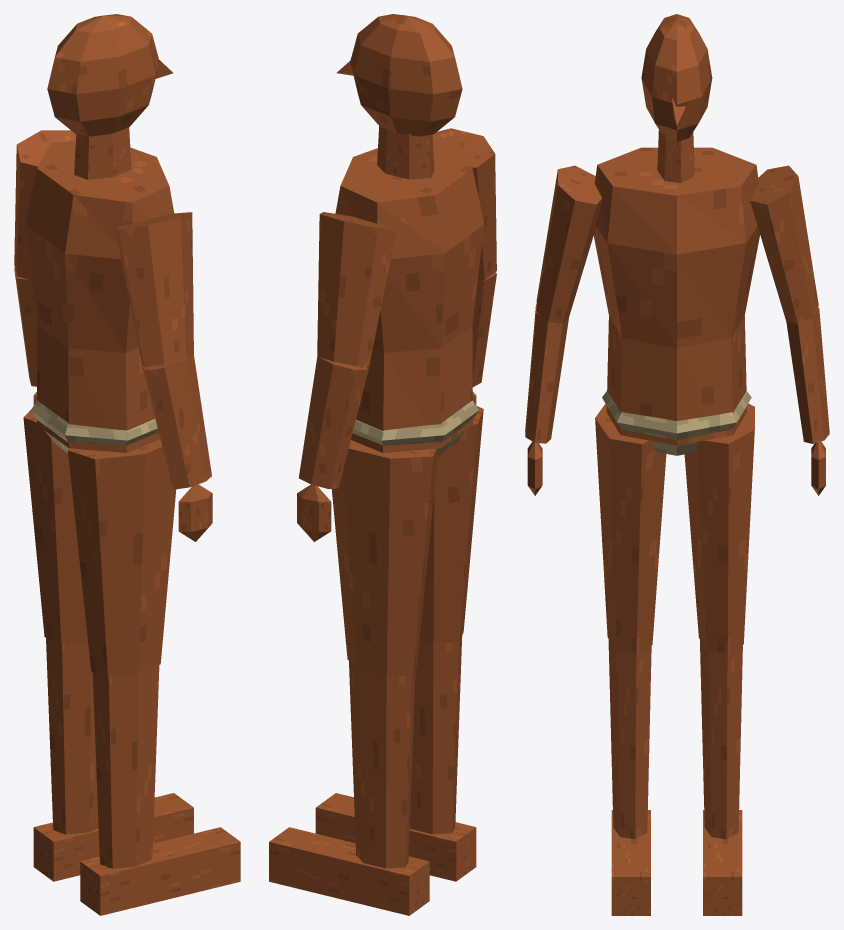
File: cuerpo_gigante.glb
3 renders of one model, left to right at view 1: azimuth 30°, elevation 25°; view 2: azimuth 150°, elevation 25°; view 3: azimuth 270°, elevation 25°, orthographic. The views are drawn at different scales.
Visible parts, largest first — view 1: torso, muslo_der, pierna_der, cabeza, brazo_der, muslo_izq, pierna_izq, pie_der, antebrazo_der, pie_izq, brazo_izq, cuello (+3 smaller); view 2: torso, muslo_izq, pierna_izq, cabeza, brazo_izq, muslo_der, pierna_der, pie_izq, antebrazo_izq, pie_der, brazo_der, cuello (+3 smaller); view 3: torso, muslo_der, muslo_izq, pierna_der, pierna_izq, cabeza, brazo_izq, brazo_der, antebrazo_izq, antebrazo_der, pie_der, pie_izq (+4 smaller).
Boxes of the visible parts, x1=… form: torso: x1=25, y1=140, x2=174, y2=452; muslo_der: x1=68, y1=439, x2=176, y2=676; pierna_der: x1=92, y1=665, x2=159, y2=868; cabeza: x1=47, y1=14, x2=173, y2=136; brazo_der: x1=115, y1=212, x2=193, y2=367; muslo_izq: x1=23, y1=410, x2=87, y2=643; pierna_izq: x1=46, y1=638, x2=98, y2=834; pie_der: x1=80, y1=827, x2=240, y2=915; antebrazo_der: x1=142, y1=355, x2=211, y2=489; pie_izq: x1=33, y1=793, x2=193, y2=881; brazo_izq: x1=14, y1=130, x2=76, y2=280; cuello: x1=74, y1=127, x2=131, y2=179; torso: x1=335, y1=140, x2=484, y2=452; muslo_izq: x1=331, y1=440, x2=438, y2=676; pierna_izq: x1=349, y1=661, x2=415, y2=868; cabeza: x1=336, y1=14, x2=462, y2=136; brazo_izq: x1=317, y1=212, x2=396, y2=367; muslo_der: x1=419, y1=406, x2=483, y2=642; pierna_der: x1=409, y1=636, x2=462, y2=834; pie_izq: x1=269, y1=827, x2=429, y2=915; antebrazo_izq: x1=299, y1=356, x2=368, y2=489; pie_der: x1=315, y1=793, x2=476, y2=881; brazo_der: x1=432, y1=128, x2=496, y2=280; cuello: x1=377, y1=126, x2=434, y2=179; torso: x1=593, y1=147, x2=759, y2=445; muslo_der: x1=595, y1=404, x2=666, y2=653; muslo_izq: x1=684, y1=403, x2=754, y2=653; pierna_der: x1=608, y1=639, x2=651, y2=839; pierna_izq: x1=700, y1=640, x2=742, y2=839; cabeza: x1=641, y1=14, x2=712, y2=141; brazo_izq: x1=750, y1=165, x2=818, y2=323; brazo_der: x1=536, y1=165, x2=602, y2=323; antebrazo_izq: x1=786, y1=307, x2=829, y2=443; antebrazo_der: x1=525, y1=304, x2=568, y2=443; pie_der: x1=611, y1=810, x2=650, y2=915; pie_izq: x1=703, y1=810, x2=742, y2=915.
Bounding box in the file's own units: 0.45 × 2.3 × 0.75.
1 material, 1 textured.
